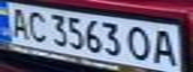3: (100, 20, 127, 57), (45, 11, 69, 47)
5: (63, 15, 84, 52)
6: (81, 17, 103, 54)
A: (148, 26, 181, 68), (3, 5, 33, 39)
C: (24, 8, 51, 43)
O: (124, 25, 154, 62)
